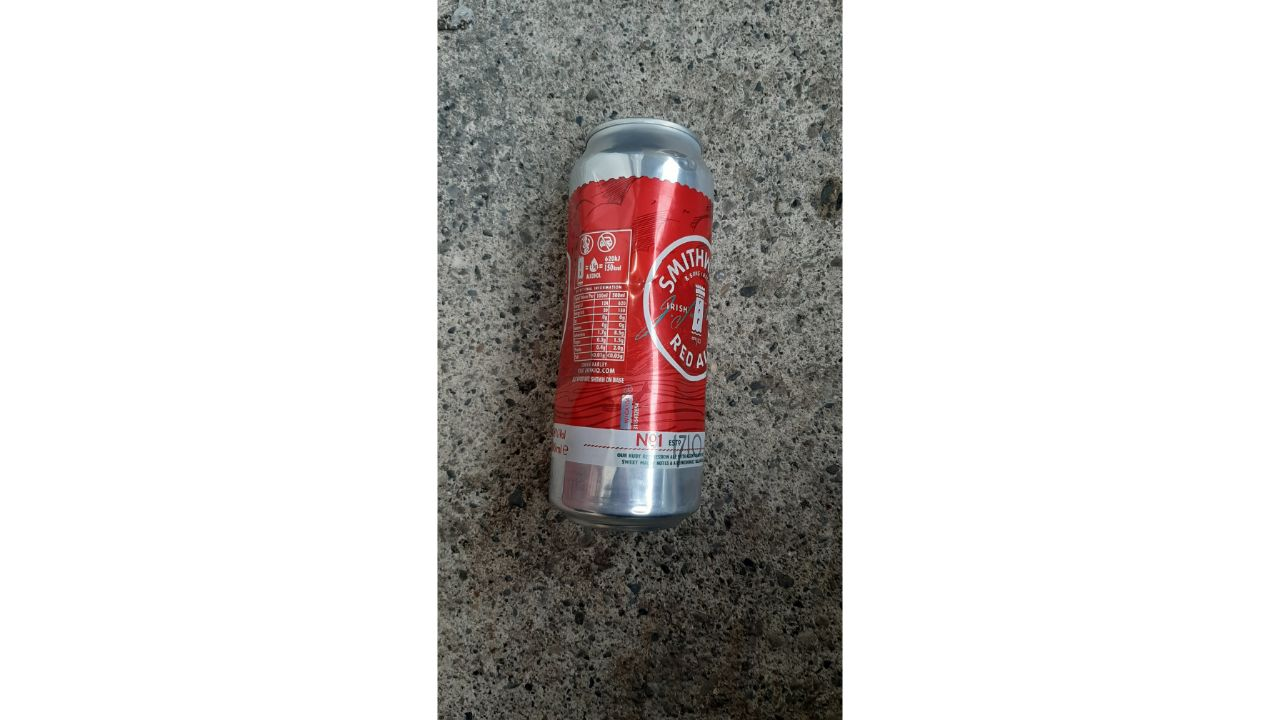Can: (532, 103, 730, 545)
